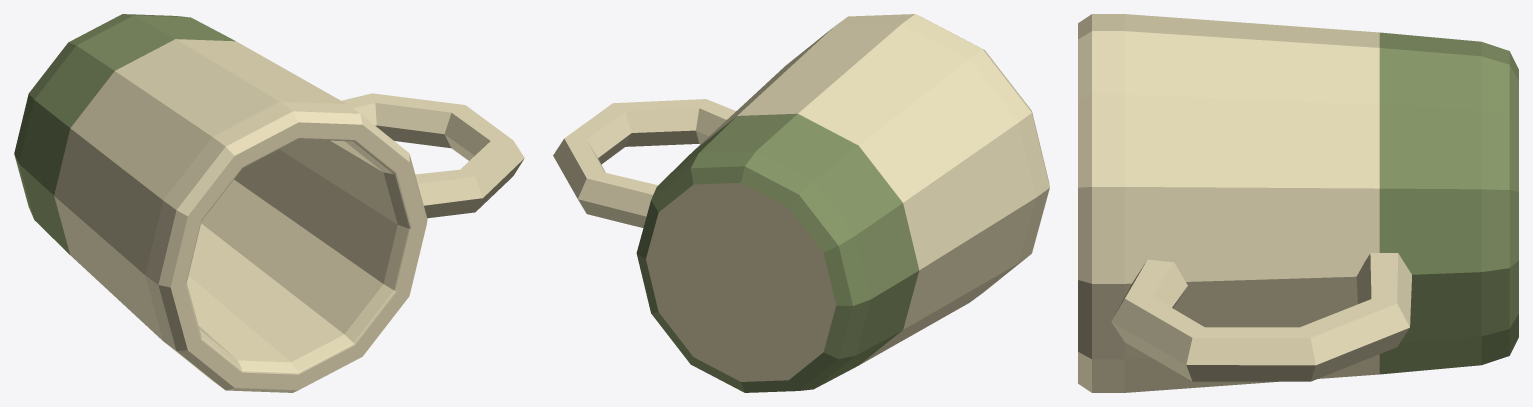
The model's file is mug.glb.
3 renders of one model, left to right at view 1: azimuth 30°, elevation 25°; view 2: azimuth 150°, elevation 25°; view 3: azimuth 270°, elevation 25°, orthographic. The views are drawn at different scales.
Parts seen in each view (by area): view 1: mug; view 2: mug; view 3: mug.
Part boxes in pixels (x1=…): mug: x1=14, y1=14, x2=524, y2=392; mug: x1=553, y1=14, x2=1049, y2=392; mug: x1=1078, y1=14, x2=1518, y2=392.
Size of the model in its own units: 0.1236 by 0.082 by 0.095.
